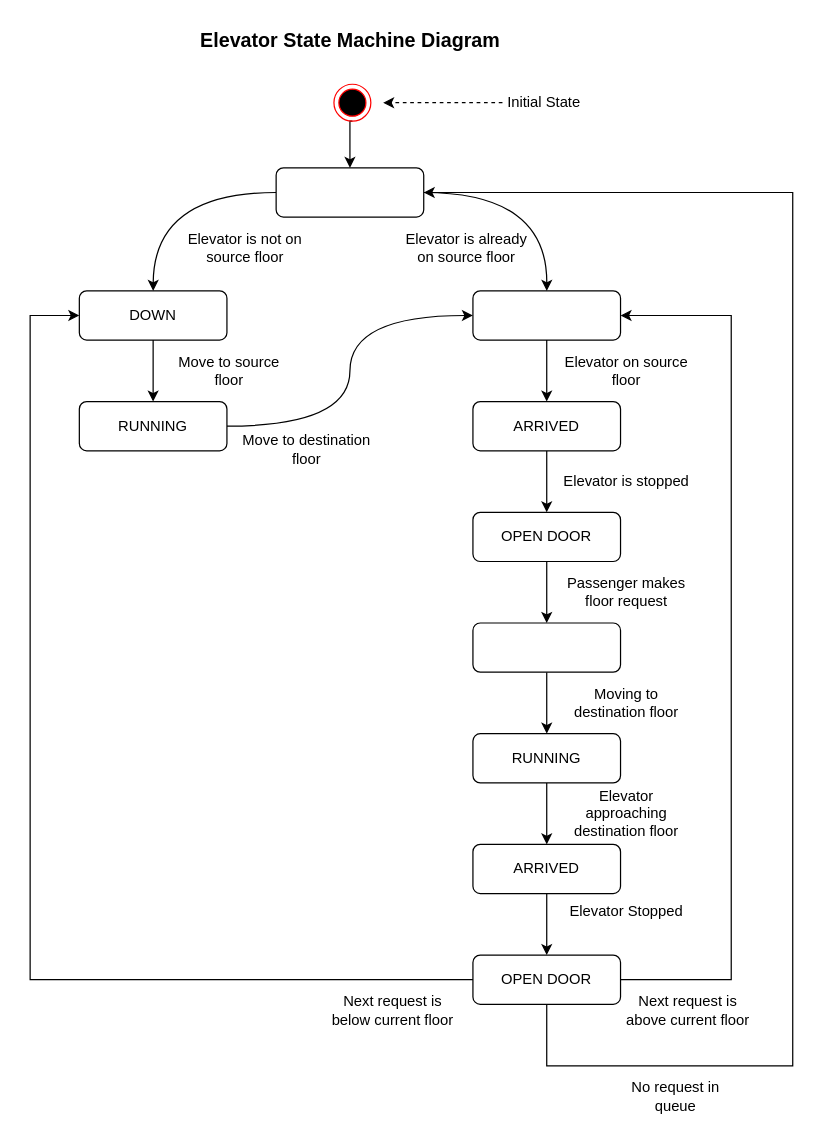
The diagram is 824 pixels wide and 1135 high, and some of its shapes have lost their labels. Here are the shapes that lost their labels. From the top down, the box of each, then its label:
(275, 167, 424, 217): IDLE
(472, 290, 621, 340): UP
(472, 622, 621, 672): CLOSE DOOR
